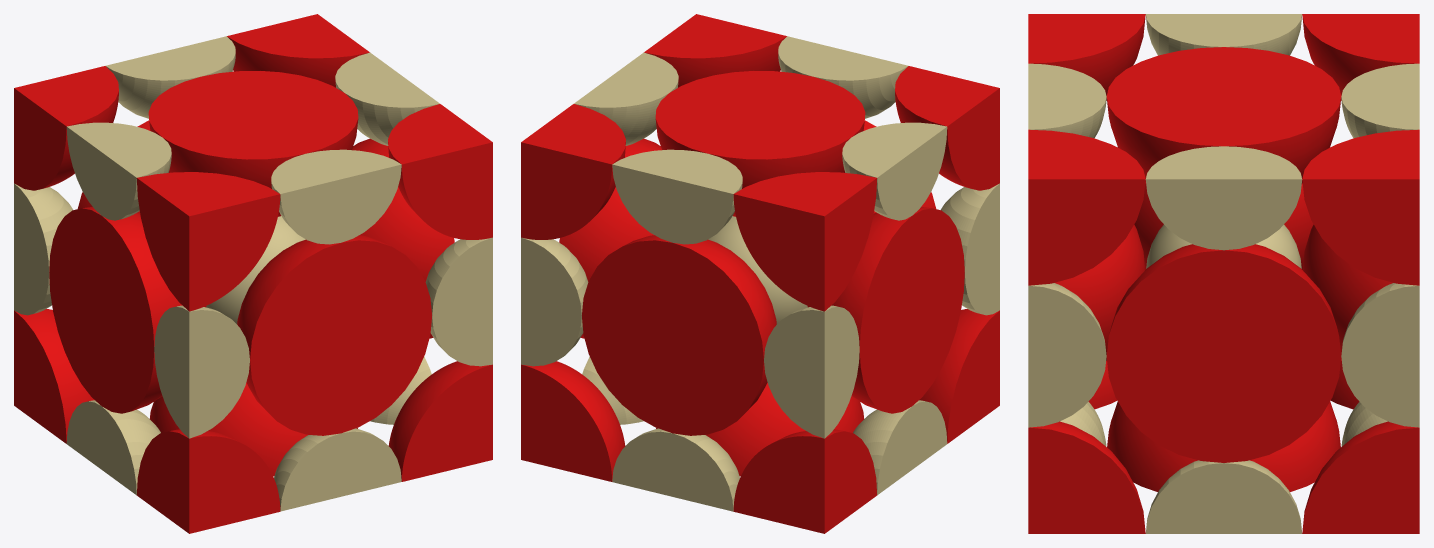
The model's file is lizi4.FBX.
The picture shows the model from 3 angles, left to right: view 1: azimuth 30°, elevation 25°; view 2: azimuth 150°, elevation 25°; view 3: azimuth 270°, elevation 25°; orthographic projection. The views are drawn at different scales.
Visible parts, largest first — view 1: Sphere227, Sphere247, Sphere246, Sphere225, Sphere229, Sphere228, Sphere232, Sphere226, Sphere230, Sphere243, Sphere231, Sphere233 (+11 smaller); view 2: Sphere248, Sphere247, Sphere246, Sphere243, Sphere244, Sphere242, Sphere234, Sphere239, Sphere245, Sphere225, Sphere238, Sphere237 (+11 smaller); view 3: Sphere249, Sphere246, Sphere228, Sphere242, Sphere240, Sphere230, Sphere245, Sphere241, Sphere233, Sphere237, Sphere251, Sphere225 (+12 smaller).
Boxes of the visible parts, bbox=[...] form: Sphere227: bbox=[237, 235, 431, 435]; Sphere247: bbox=[49, 207, 206, 413]; Sphere246: bbox=[148, 71, 358, 216]; Sphere225: bbox=[136, 172, 280, 311]; Sphere229: bbox=[136, 429, 280, 533]; Sphere228: bbox=[388, 104, 492, 239]; Sphere232: bbox=[154, 305, 249, 438]; Sphere226: bbox=[271, 149, 401, 244]; Sphere230: bbox=[388, 361, 492, 481]; Sphere243: bbox=[14, 66, 118, 190]; Sphere231: bbox=[274, 428, 401, 511]; Sphere233: bbox=[425, 237, 492, 366]; Sphere248: bbox=[582, 235, 776, 435]; Sphere247: bbox=[807, 207, 964, 413]; Sphere246: bbox=[655, 71, 865, 216]; Sphere243: bbox=[733, 172, 877, 311]; Sphere244: bbox=[733, 429, 877, 533]; Sphere242: bbox=[521, 104, 625, 239]; Sphere234: bbox=[764, 305, 859, 438]; Sphere239: bbox=[612, 149, 742, 244]; Sphere245: bbox=[521, 361, 625, 481]; Sphere225: bbox=[895, 66, 999, 190]; Sphere238: bbox=[612, 428, 739, 511]; Sphere237: bbox=[521, 237, 588, 366]; Sphere249: bbox=[1106, 244, 1341, 462]; Sphere246: bbox=[1106, 47, 1341, 183]; Sphere228: bbox=[1028, 129, 1145, 285]; Sphere242: bbox=[1302, 129, 1419, 285]; Sphere240: bbox=[1145, 146, 1302, 250]; Sphere230: bbox=[1028, 421, 1145, 533]; Sphere245: bbox=[1302, 421, 1419, 533]; Sphere241: bbox=[1145, 460, 1302, 533]; Sphere233: bbox=[1028, 283, 1106, 427]; Sphere237: bbox=[1341, 283, 1419, 427]; Sphere251: bbox=[1107, 401, 1340, 491]; Sphere225: bbox=[1028, 14, 1145, 100].
Bounding box in the file's own units: 50 × 50 × 50.
Materials: 1 (1 with a texture image).
